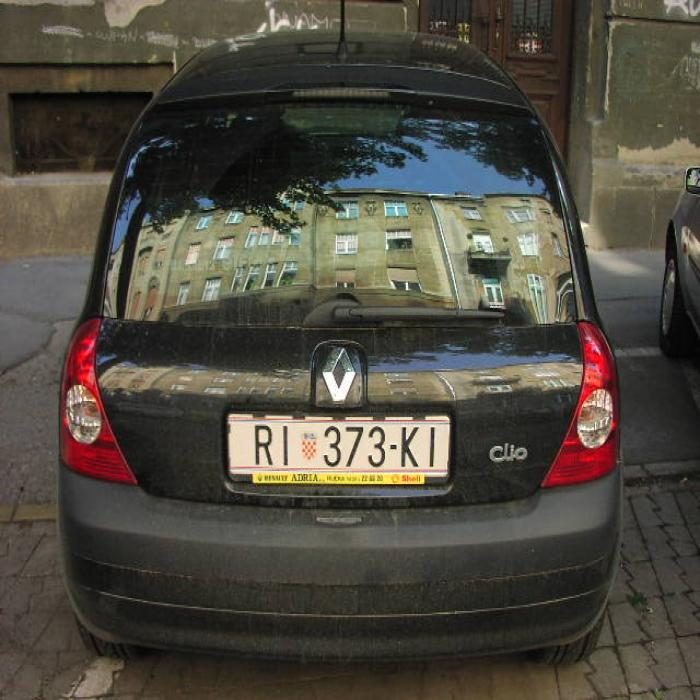number_plate: (228, 414, 447, 474)
